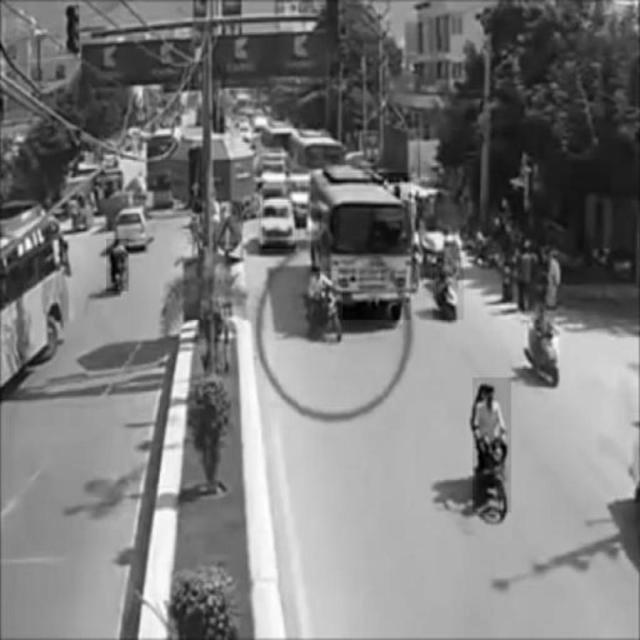vehicle: (311, 173, 411, 320), (473, 378, 511, 512), (303, 272, 343, 343), (525, 313, 559, 385), (433, 258, 463, 320), (263, 201, 297, 248), (114, 209, 149, 244), (107, 239, 129, 291)
